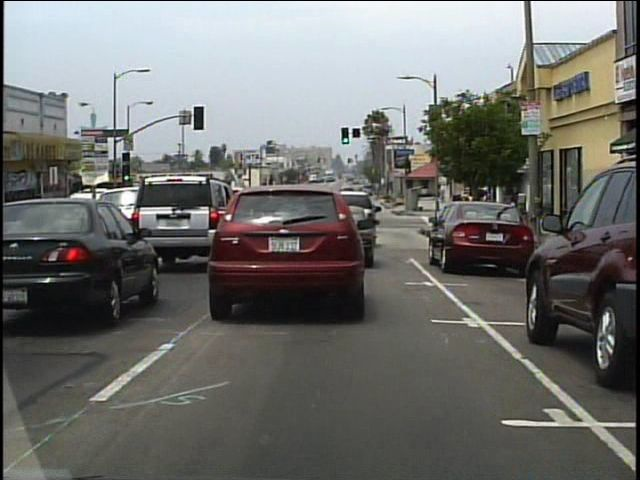person: (478, 192, 493, 231), (471, 194, 484, 238), (458, 193, 471, 237)
